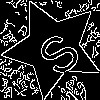S: (28, 23, 84, 80)
